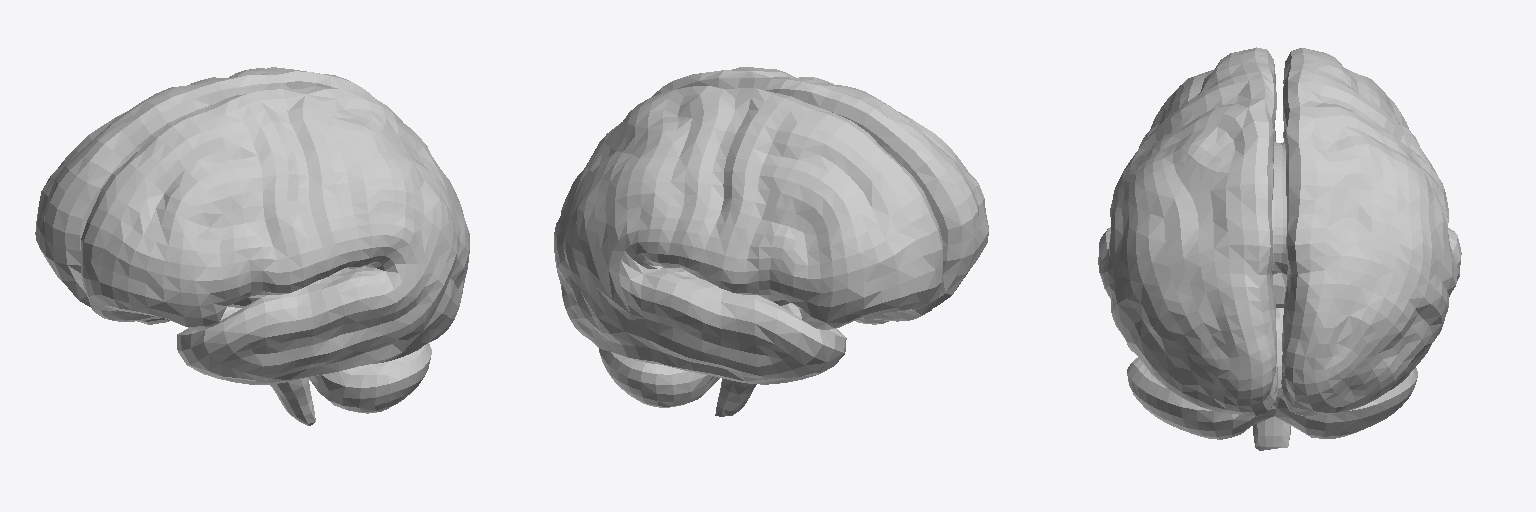
Rendered from Brain_Low_Poly.OBJ.
3 views of the same model, side by side, from view 1: azimuth 30°, elevation 25°; view 2: azimuth 150°, elevation 25°; view 3: azimuth 270°, elevation 25° (orthographic).
Parts seen in each view (by area): view 1: ZBrush_defualt_group, Group1; view 2: ZBrush_defualt_group, Group1; view 3: ZBrush_defualt_group, Group1.
Boxes of the visible parts, x1,y1,x2,y2 form: ZBrush_defualt_group: [35, 67, 469, 384]; Group1: [228, 295, 431, 425]; ZBrush_defualt_group: [554, 67, 988, 384]; Group1: [599, 295, 790, 416]; ZBrush_defualt_group: [1098, 47, 1461, 416]; Group1: [1127, 272, 1417, 450].
Size of the model in its own units: 6.3 by 5.52 by 5.23.